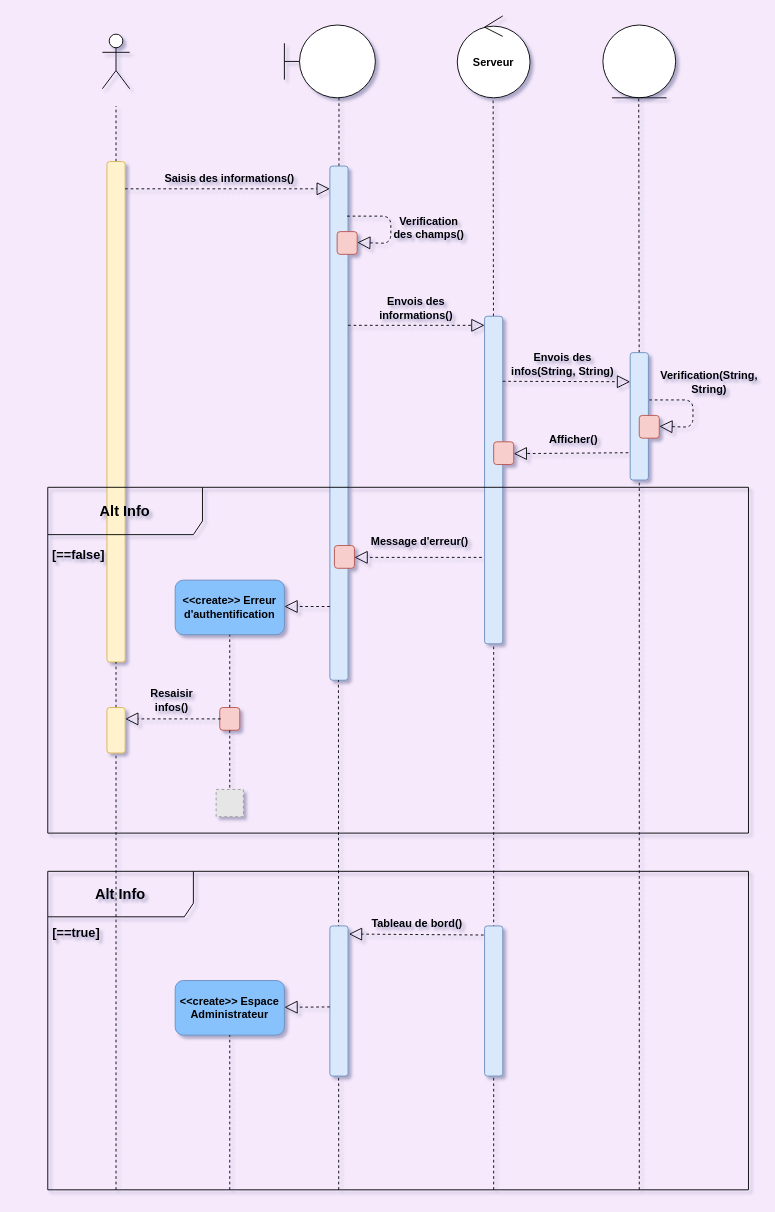
The diagram is 775 pixels wide and 1212 high, and some of its shapes have lost their labels. Grey dashed boxes stand in for pictures. Here are the shapes that lost their labels. From the top down, the centre of each, then its label:
the point at 115,61: Administrateur
the point at 329,61: Forme d'identification
the point at 639,61: Base de données
